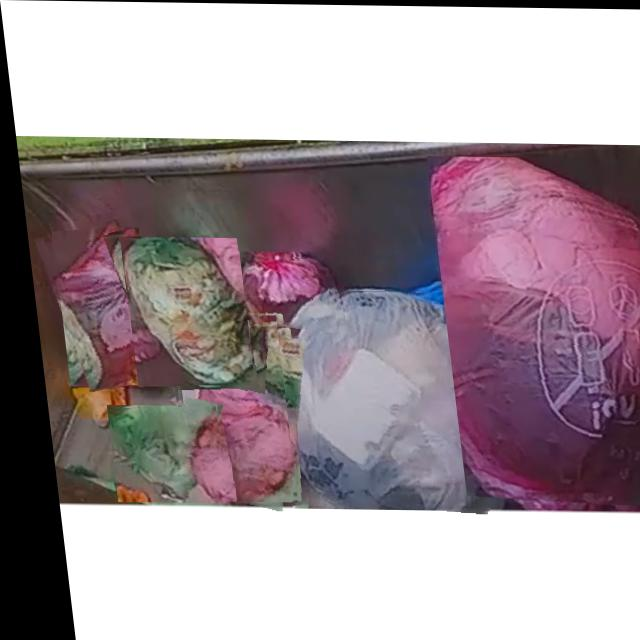general_trashbag: (118, 237, 243, 385), (99, 407, 204, 501)
other_trashbag: (426, 156, 640, 506), (269, 290, 475, 509), (173, 317, 281, 500), (42, 222, 136, 389), (234, 252, 326, 328)
